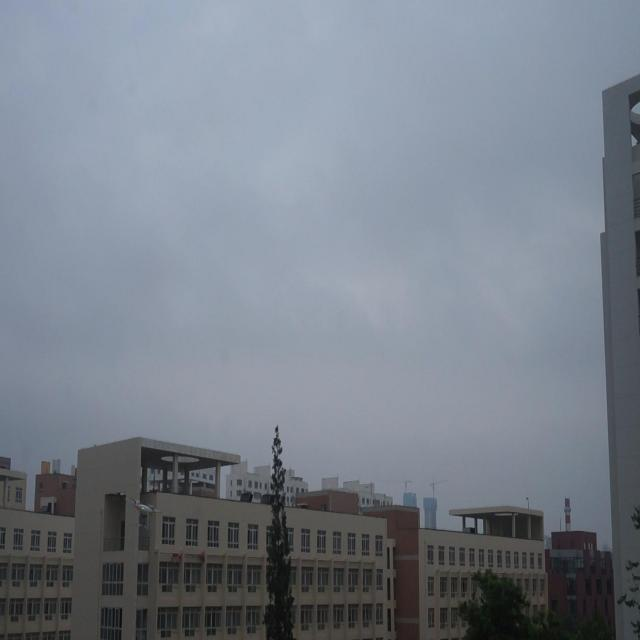UAV: (128, 498, 160, 530)
